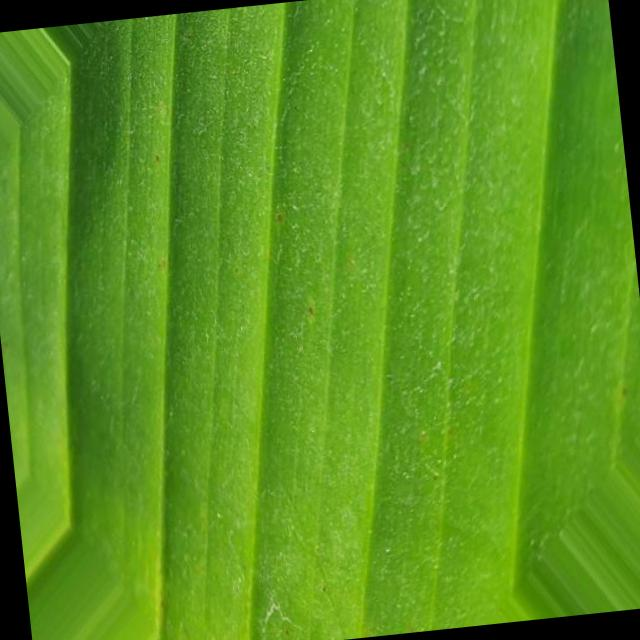Banana_Healthy: (105, 41, 590, 556)
